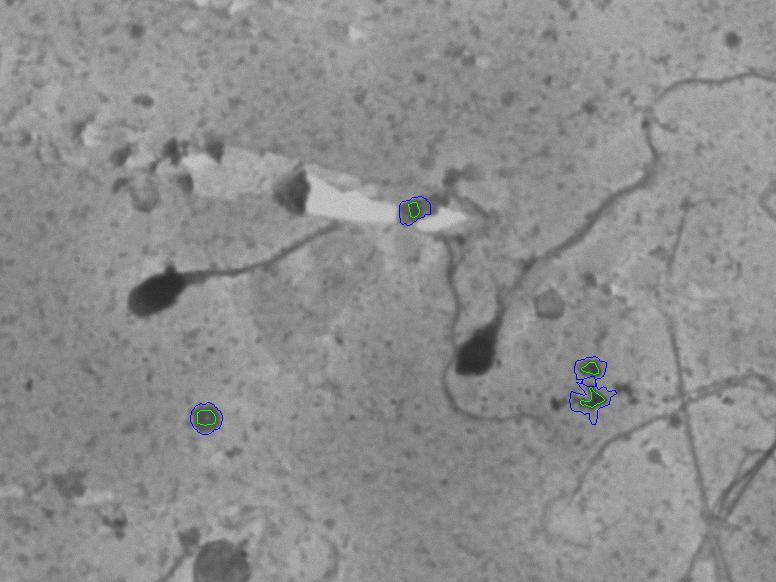Abnormal: (445, 61, 717, 397), (113, 220, 344, 394)
